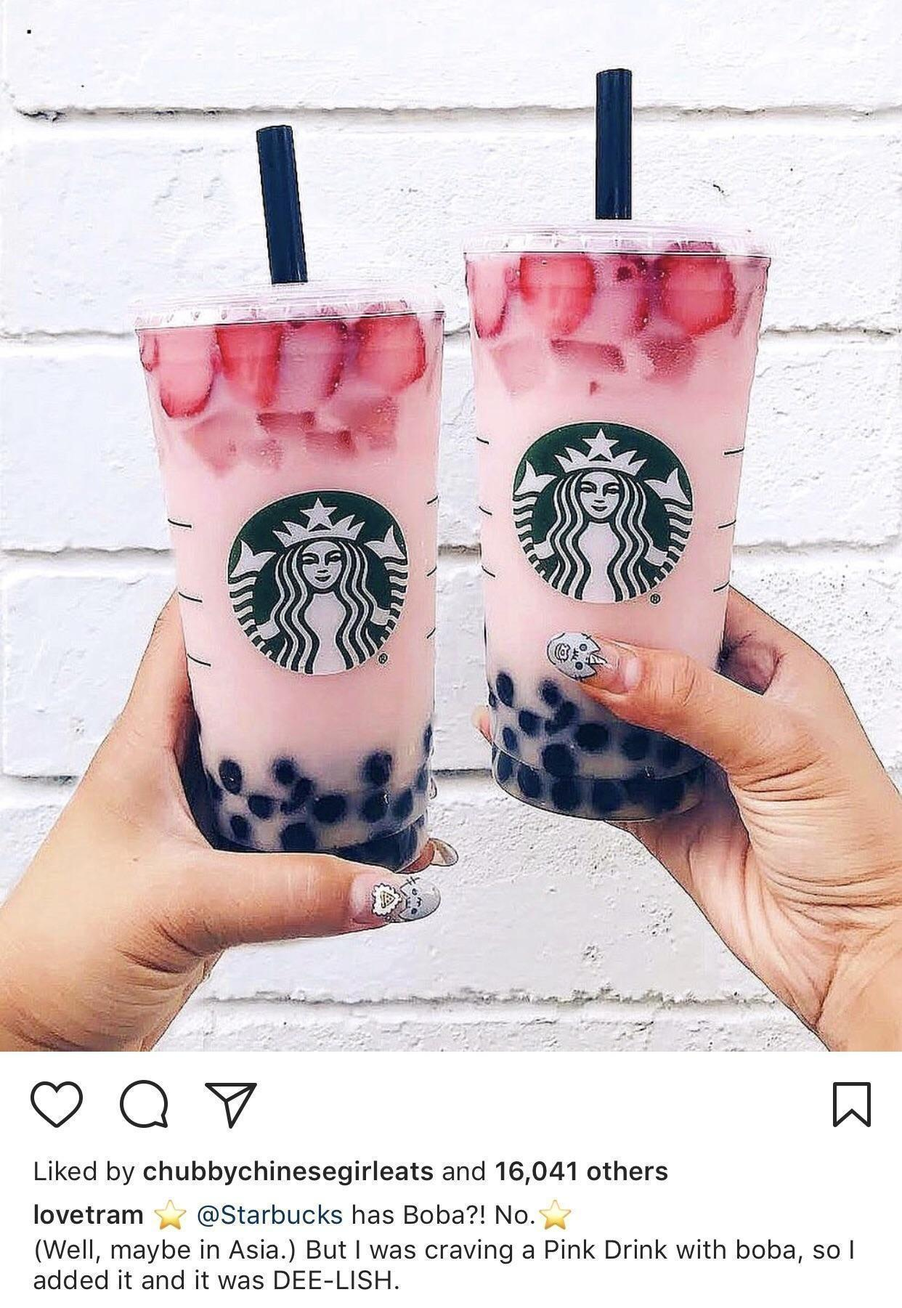cup-disposable: (456, 214, 774, 826), (137, 280, 454, 871)
